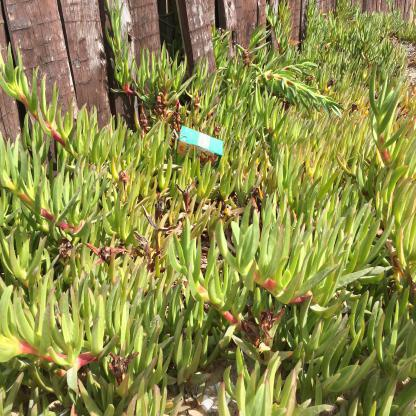karton: (176, 125, 224, 168)
